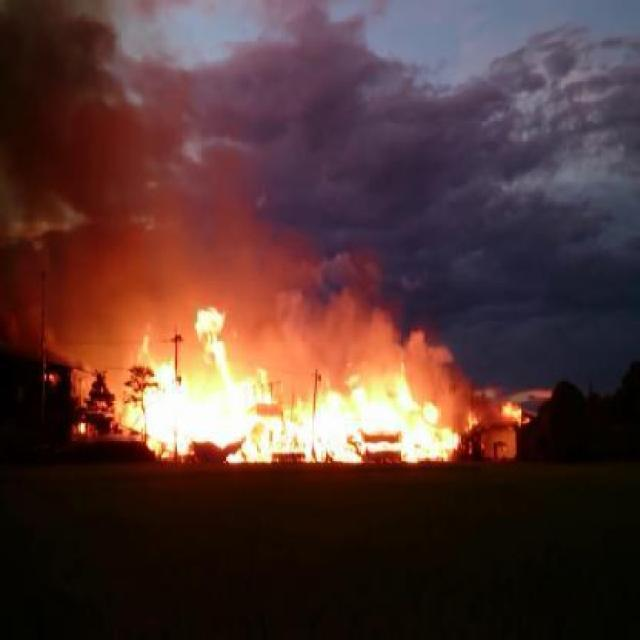Fire: (120, 367, 462, 462), (500, 396, 529, 426), (206, 336, 232, 369), (197, 311, 226, 337), (466, 406, 479, 432), (78, 421, 86, 434)
Smoke: (2, 3, 128, 209), (8, 234, 141, 360)
